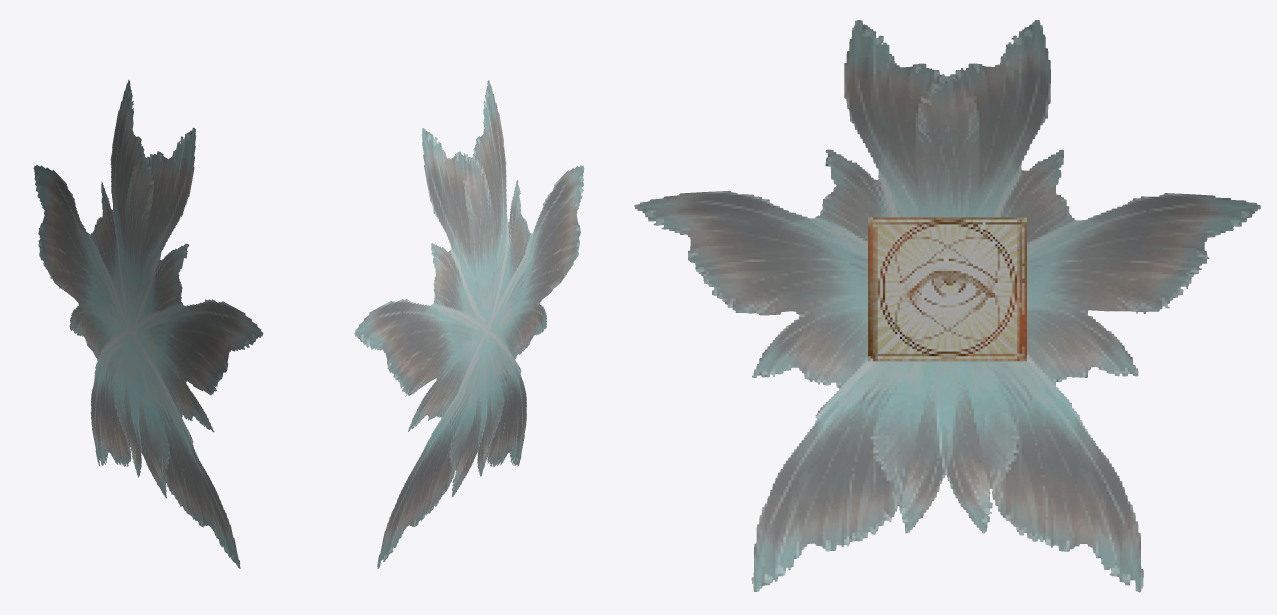
The model's file is Providence.fbx.
3 renders of one model, left to right at view 1: azimuth 30°, elevation 25°; view 2: azimuth 150°, elevation 25°; view 3: azimuth 270°, elevation 25°, orthographic. The views are drawn at different scales.
Parts seen in each view (by area): view 1: Plane.001; view 2: Plane.001; view 3: Plane.001, Plane.
Boxes of the visible parts, left/top/right/bottom form: Plane.001: left=33, top=80, right=263, bottom=568; Plane.001: left=354, top=80, right=584, bottom=568; Plane.001: left=634, top=20, right=1260, bottom=592; Plane: left=868, top=217, right=1026, bottom=361.
Size of the model in its own units: 89.52 by 681 by 681.
